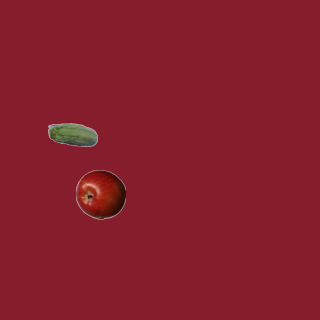Apple Braeburn: (75, 169, 125, 219)
Corn Husk: (47, 111, 97, 161)
